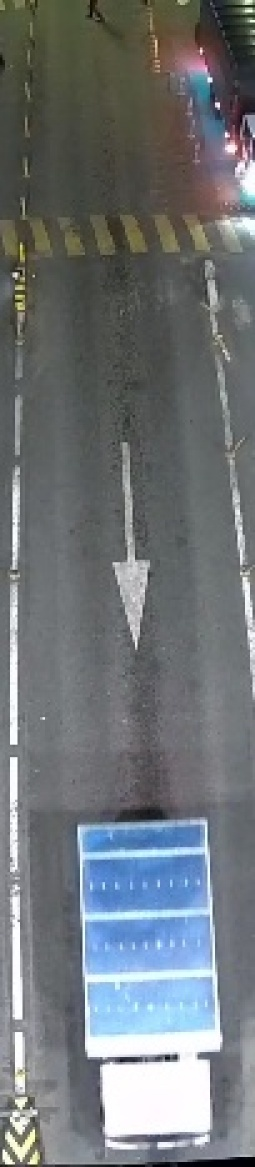truck: (61, 795, 238, 1154), (183, 1, 254, 209)
